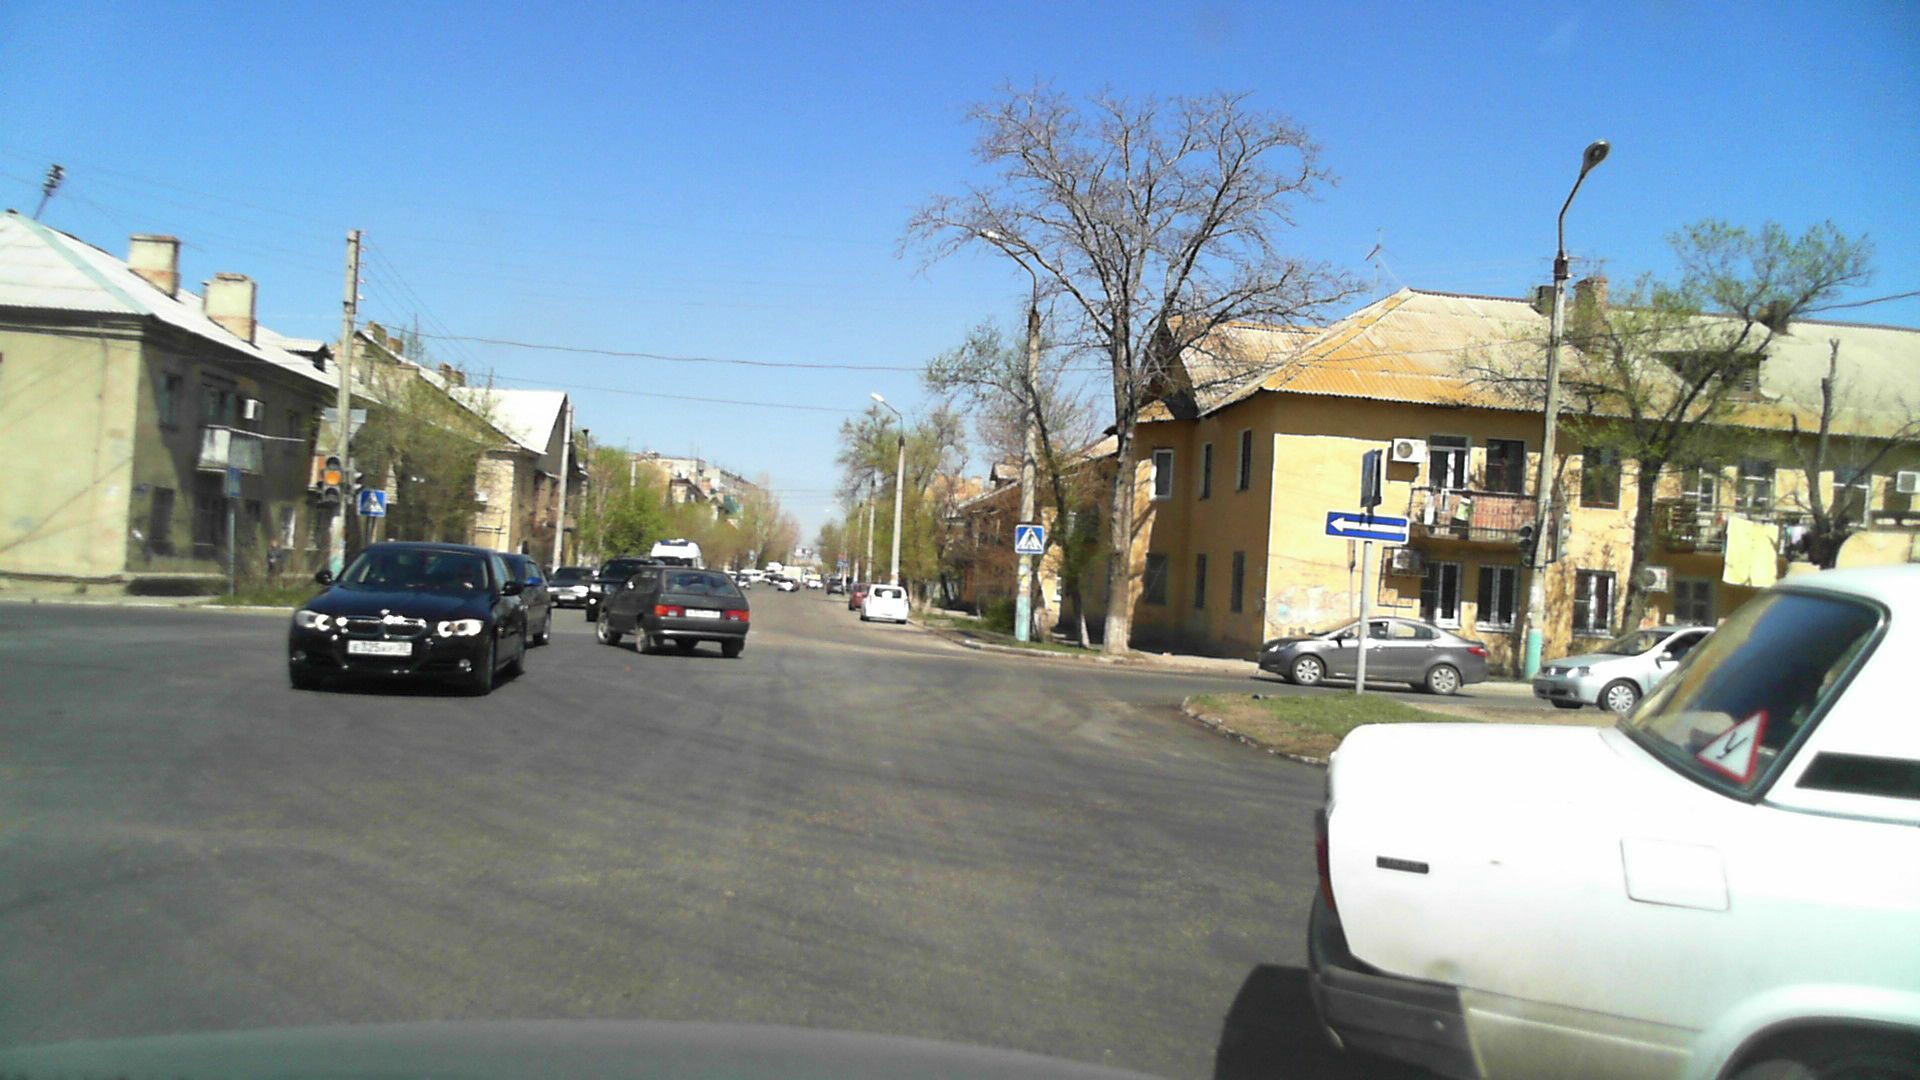One-Way Traffic: (1327, 512, 1408, 541)
Pedestrian Crossing: (1015, 525, 1043, 553)
